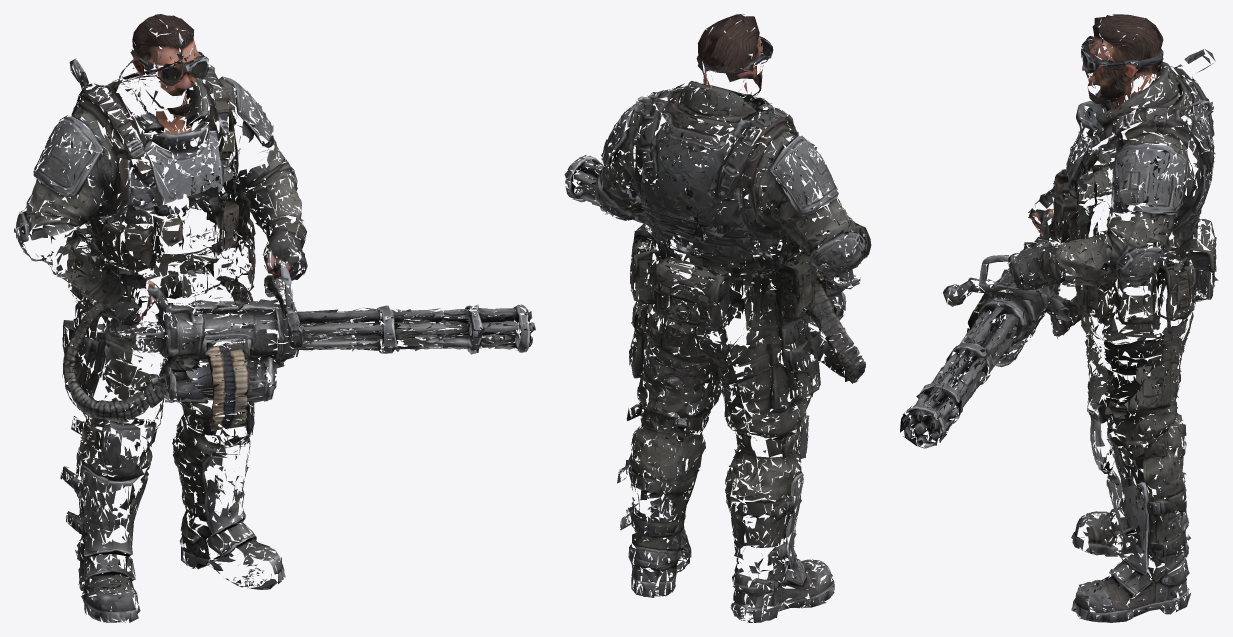
File: cannon_hero.glb
The picture shows the model from 3 angles, left to right: view 1: azimuth 30°, elevation 25°; view 2: azimuth 150°, elevation 25°; view 3: azimuth 270°, elevation 25°; orthographic projection. The views are drawn at different scales.
Visible parts, largest first — view 1: tripo_node_a500ec1e-7c63-4019-a2b7-cb4920dd37e9; view 2: tripo_node_a500ec1e-7c63-4019-a2b7-cb4920dd37e9; view 3: tripo_node_a500ec1e-7c63-4019-a2b7-cb4920dd37e9.
Boxes of the visible parts, x1,y1,x2,y2 form: tripo_node_a500ec1e-7c63-4019-a2b7-cb4920dd37e9: (14, 14, 535, 622); tripo_node_a500ec1e-7c63-4019-a2b7-cb4920dd37e9: (564, 14, 871, 622); tripo_node_a500ec1e-7c63-4019-a2b7-cb4920dd37e9: (900, 14, 1218, 622).
Bounding box in the file's own units: 1.41 × 1.92 × 0.9863.
Materials: 1 (1 with a texture image).
